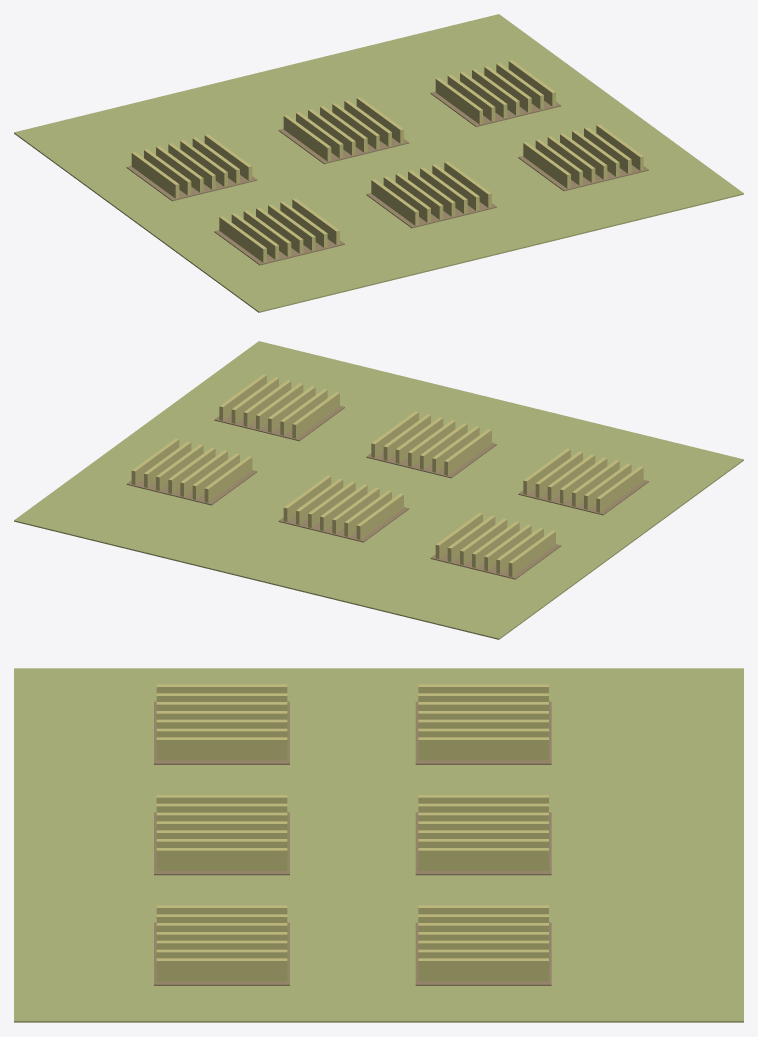
The model's file is plot-farm.glb.
The picture shows the model from 3 angles, top to bottom: view 1: azimuth 30°, elevation 25°; view 2: azimuth 150°, elevation 25°; view 3: azimuth 270°, elevation 25°; orthographic projection. The views are drawn at different scales.
Size of the model in its own units: 15.96 by 0.5 by 13.96.
